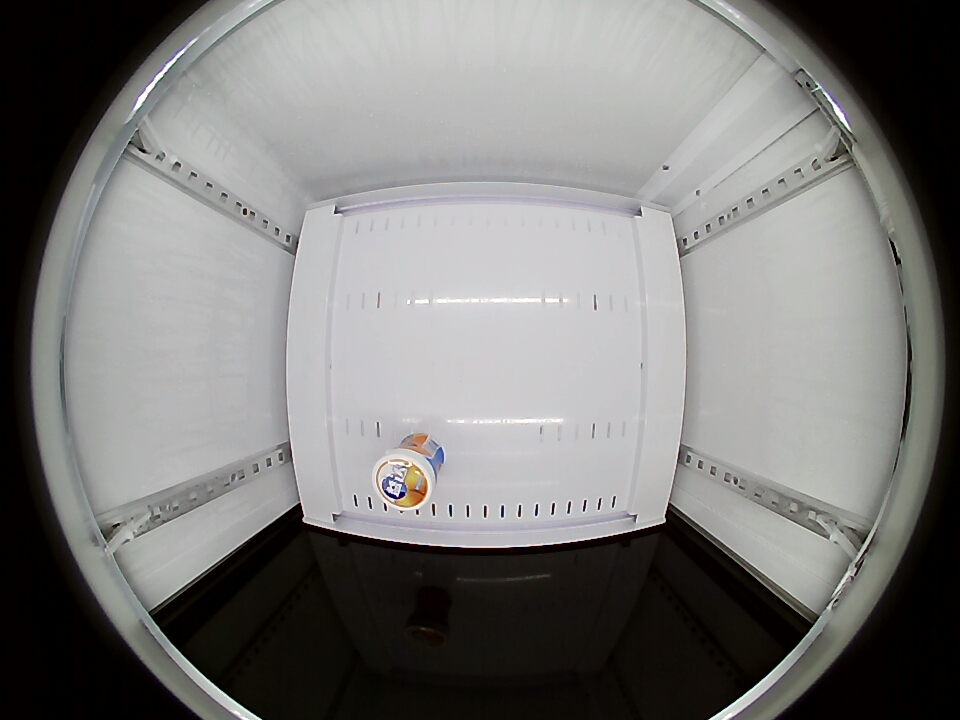yida: (371, 447, 441, 514)
